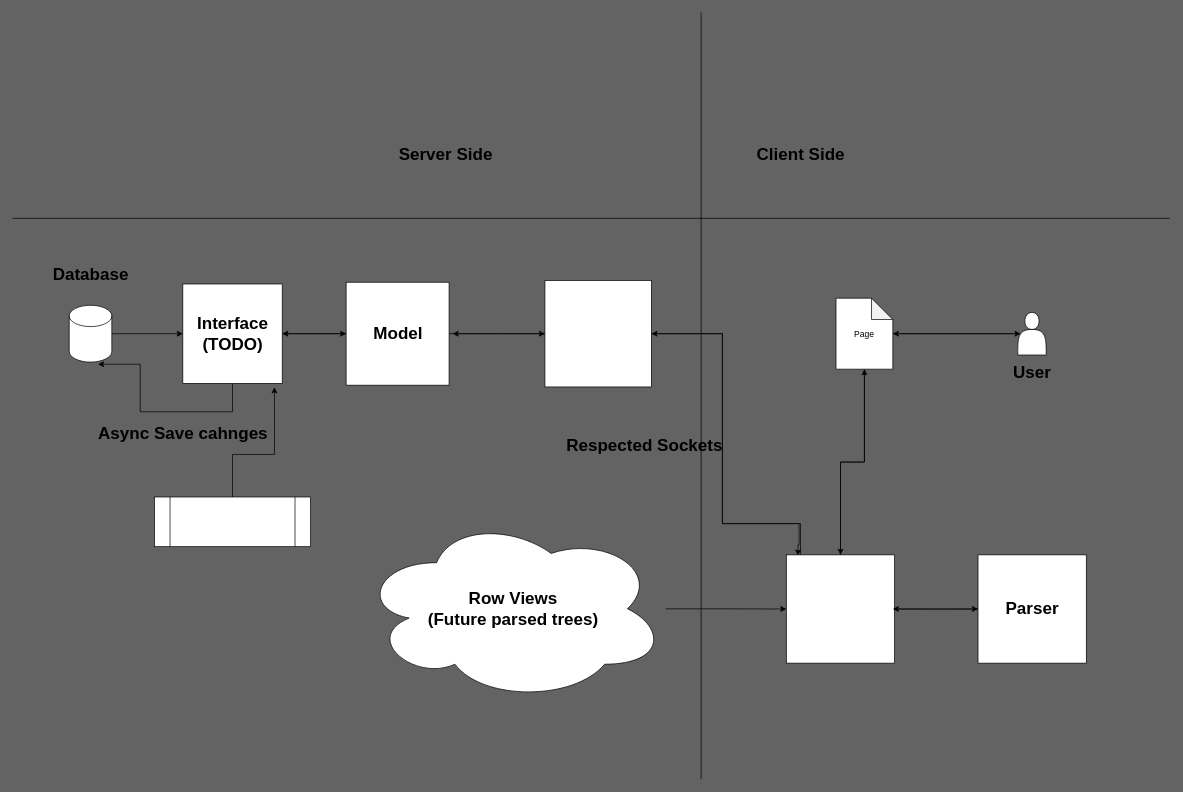
This 1183x792 diagram has some shape labels left out. The shapes that lost their labels are listed below. From the top down, each one's box as (x1, y1, x2, y2) in pixels, then its label:
(544, 280, 651, 387): Actions
(154, 496, 311, 547): Migrations (TODO)
(786, 554, 895, 663): Controller
